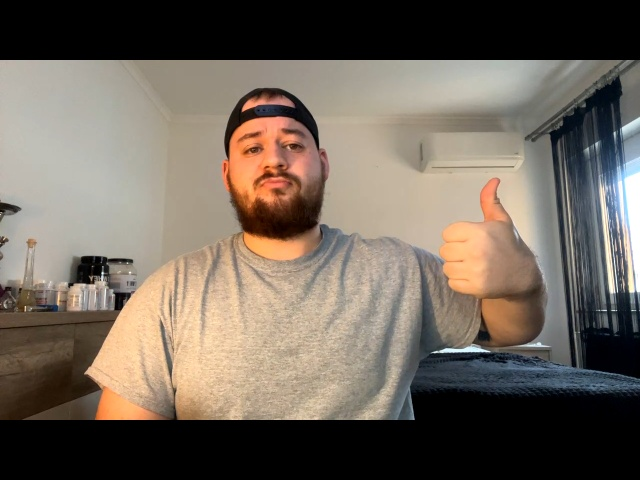ThumbsUp: (439, 177, 543, 300)
